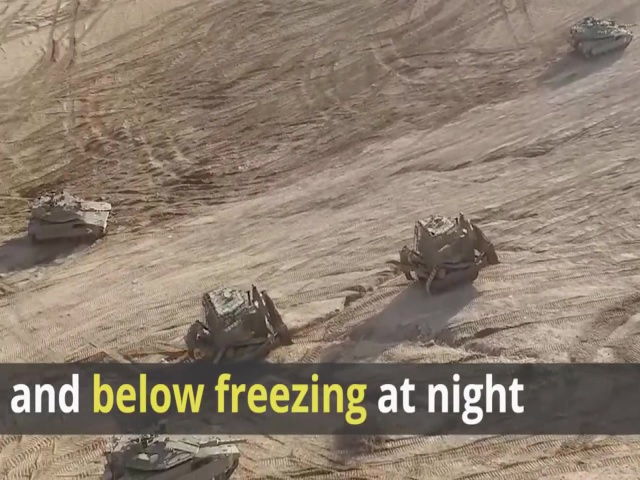vehicle: (181, 287, 291, 360), (402, 213, 496, 296), (100, 437, 241, 478), (28, 192, 113, 237), (568, 15, 633, 56)
